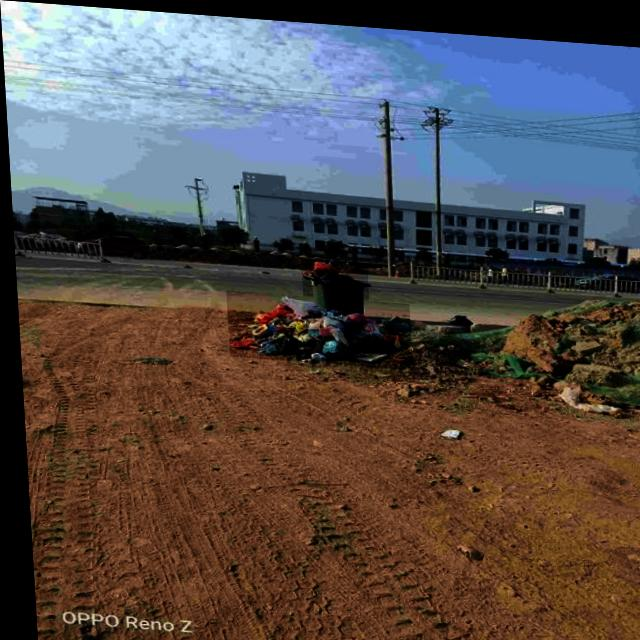garbage: (223, 288, 409, 364)
overflow: (298, 254, 367, 310)
